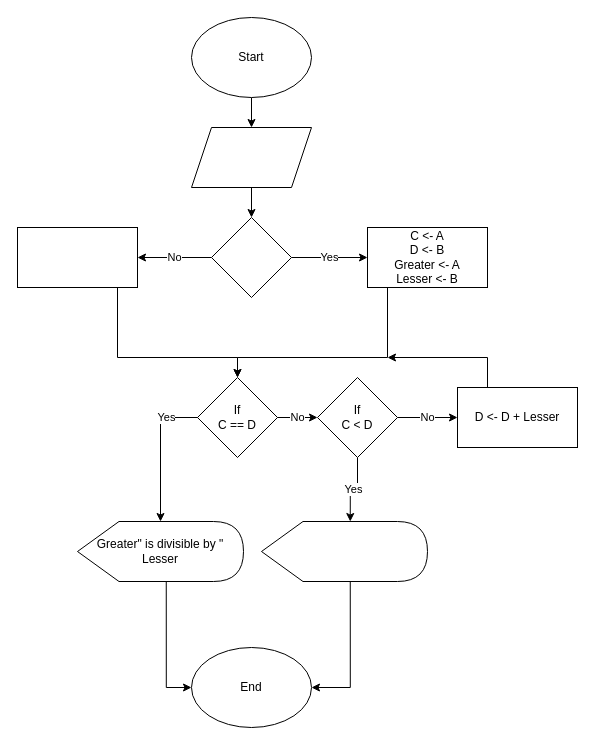
The diagram is 595 pixels wide and 745 high, and some of its shapes have lost their labels. The centre of each missing label's shape, as x and y in pixels:
A <- input B <- input: (x=251, y=157)
C <- B D <- A Greater <- B Lesser <- A: (x=77, y=257)
Greater" is not divisible by " Lesser: (x=344, y=551)
If A >= B: (x=251, y=257)
